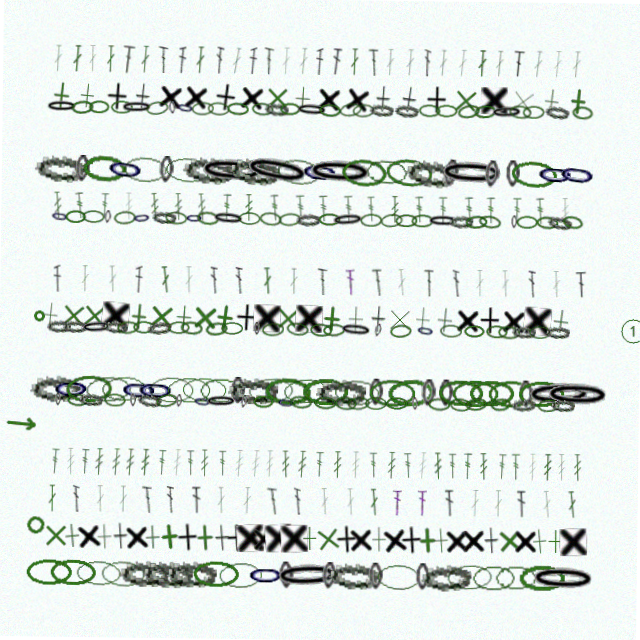chain: (240, 153, 310, 190), (196, 157, 264, 187), (304, 157, 372, 187), (277, 561, 345, 591), (436, 157, 504, 186), (526, 377, 594, 406), (545, 378, 612, 406), (533, 562, 600, 590), (403, 156, 455, 188), (273, 156, 321, 188), (227, 157, 278, 187), (424, 561, 475, 591), (383, 156, 432, 187), (33, 157, 84, 186), (181, 157, 232, 186), (31, 377, 82, 406), (508, 157, 556, 187), (162, 157, 209, 187), (317, 378, 367, 406), (146, 562, 196, 590), (66, 377, 114, 406), (85, 377, 133, 406), (449, 561, 497, 590), (339, 157, 385, 187), (120, 157, 167, 186), (101, 377, 148, 406), (248, 377, 295, 406), (265, 377, 312, 406), (283, 377, 330, 406), (388, 377, 435, 406), (229, 378, 279, 405), (123, 562, 173, 589), (170, 562, 220, 589), (332, 562, 382, 589), (78, 562, 126, 590), (80, 157, 126, 186), (362, 157, 408, 186), (334, 378, 381, 406), (103, 562, 150, 590), (370, 378, 416, 406), (103, 156, 144, 187), (555, 156, 596, 187), (182, 378, 229, 405), (453, 378, 500, 405), (519, 378, 566, 405), (29, 562, 76, 589), (53, 562, 100, 589), (196, 562, 243, 589), (221, 562, 266, 590), (379, 562, 424, 590), (149, 378, 195, 405), (303, 378, 349, 405), (439, 378, 485, 405), (470, 378, 516, 405), (489, 378, 535, 405), (522, 562, 568, 589), (167, 378, 212, 405), (199, 378, 244, 405), (474, 562, 519, 589), (497, 562, 542, 589), (298, 157, 338, 187), (534, 157, 573, 186), (137, 378, 176, 406), (121, 378, 159, 406), (53, 378, 91, 405), (250, 562, 288, 589), (440, 157, 458, 186), (330, 212, 363, 227), (211, 212, 243, 227), (340, 322, 372, 337), (293, 103, 325, 117), (488, 103, 520, 117), (482, 158, 498, 186), (81, 323, 113, 337), (43, 103, 75, 116), (118, 103, 150, 116), (426, 213, 458, 226), (206, 396, 238, 409), (336, 101, 360, 118), (454, 101, 478, 118), (156, 394, 180, 411), (73, 158, 88, 185), (157, 158, 172, 185), (422, 378, 437, 405), (282, 562, 297, 589), (325, 562, 340, 589), (546, 212, 571, 228), (147, 322, 172, 338), (560, 211, 583, 228), (504, 158, 518, 185), (232, 378, 246, 405), (370, 378, 384, 405), (440, 378, 454, 405), (520, 378, 534, 405), (372, 562, 386, 589), (419, 562, 433, 589), (542, 102, 567, 117), (138, 395, 163, 410), (512, 395, 537, 410), (143, 102, 166, 118), (477, 212, 500, 228), (205, 322, 228, 338), (471, 102, 494, 117), (506, 102, 529, 117), (195, 212, 218, 227), (258, 212, 281, 227), (379, 212, 402, 227), (180, 322, 203, 337), (286, 322, 309, 337), (290, 395, 313, 410), (466, 395, 489, 410), (538, 395, 561, 410), (262, 103, 286, 117), (392, 103, 416, 117), (295, 213, 319, 227), (448, 213, 472, 227), (569, 102, 591, 117), (491, 395, 513, 410), (68, 103, 91, 117), (112, 213, 135, 227), (277, 213, 300, 227), (348, 396, 371, 410), (450, 396, 473, 410), (367, 103, 391, 116), (151, 213, 175, 226), (47, 323, 71, 336), (63, 323, 87, 336), (104, 323, 128, 336), (512, 323, 536, 336), (546, 323, 570, 336), (80, 396, 104, 409), (552, 396, 576, 409), (189, 103, 211, 117), (205, 103, 227, 117), (224, 103, 246, 117), (249, 103, 271, 117), (316, 103, 338, 117), (350, 103, 372, 117), (164, 213, 186, 227), (464, 213, 486, 227), (535, 213, 557, 227), (117, 323, 139, 337), (262, 323, 284, 337), (310, 323, 332, 337), (323, 323, 345, 337), (390, 323, 412, 337), (498, 323, 520, 337), (68, 396, 90, 410), (315, 396, 337, 410), (336, 396, 358, 410), (429, 396, 451, 410), (108, 103, 130, 116), (416, 103, 438, 116), (433, 103, 455, 116), (520, 103, 542, 116), (81, 213, 103, 226), (237, 213, 259, 226), (317, 213, 339, 226), (359, 213, 381, 226), (394, 213, 416, 226), (410, 213, 432, 226), (515, 213, 537, 226), (133, 323, 155, 336), (168, 323, 190, 336), (221, 323, 243, 336), (440, 323, 462, 336), (486, 323, 508, 336), (529, 323, 551, 336), (105, 396, 127, 409), (366, 396, 388, 409), (387, 396, 409, 409), (173, 102, 192, 117), (49, 212, 68, 227), (416, 322, 435, 337), (86, 103, 107, 116), (277, 103, 298, 116), (64, 213, 85, 226), (464, 323, 485, 336), (254, 396, 275, 409), (131, 213, 150, 227), (194, 396, 213, 410), (278, 396, 296, 410), (184, 213, 202, 226), (374, 323, 382, 336), (241, 396, 249, 409), (166, 103, 173, 116), (103, 213, 110, 226), (510, 213, 516, 226), (254, 323, 260, 336), (56, 396, 62, 409), (131, 396, 137, 409), (177, 396, 183, 409), (413, 396, 419, 409)
double: (118, 48, 132, 76), (227, 48, 240, 76), (509, 48, 522, 75), (269, 488, 282, 515), (529, 48, 541, 75), (159, 268, 171, 295), (371, 268, 383, 295), (575, 268, 587, 295), (144, 488, 156, 515), (260, 48, 271, 75), (295, 48, 306, 75), (328, 48, 339, 75), (454, 48, 465, 75), (491, 48, 502, 75), (549, 48, 560, 75), (568, 48, 579, 75), (396, 268, 407, 295), (371, 488, 382, 515), (544, 488, 555, 515), (569, 488, 580, 515), (50, 48, 60, 75), (69, 48, 79, 75), (137, 48, 147, 75), (155, 48, 165, 75), (192, 48, 202, 75), (211, 48, 221, 75), (278, 48, 288, 75), (365, 48, 375, 75), (382, 48, 392, 75), (402, 48, 412, 75), (435, 48, 445, 75), (474, 48, 484, 75), (107, 268, 117, 295), (262, 268, 272, 295), (317, 268, 327, 295), (345, 268, 355, 295), (423, 268, 433, 295), (500, 268, 510, 295), (551, 268, 561, 295), (194, 488, 204, 515), (322, 488, 332, 515), (348, 488, 358, 515), (447, 488, 457, 515), (519, 488, 529, 515), (85, 48, 94, 75), (103, 48, 112, 75), (347, 48, 356, 75), (80, 268, 89, 295), (184, 268, 193, 295), (289, 268, 298, 295), (475, 268, 484, 295), (50, 488, 59, 515), (98, 488, 107, 515), (121, 488, 130, 515), (219, 488, 228, 515), (245, 488, 254, 515), (395, 488, 404, 515), (420, 488, 429, 515), (473, 488, 482, 515), (496, 488, 505, 515), (175, 48, 183, 75), (246, 48, 254, 75), (420, 48, 428, 75), (53, 268, 61, 295), (452, 268, 460, 295), (296, 488, 304, 515), (313, 48, 320, 75), (135, 268, 142, 295), (210, 268, 217, 295), (235, 268, 242, 295), (528, 268, 535, 295), (75, 488, 82, 515), (169, 488, 176, 515)
noise: (619, 313, 640, 341), (26, 516, 50, 540), (7, 420, 39, 434), (32, 312, 46, 326)
single: (505, 84, 535, 114), (210, 304, 240, 334), (316, 524, 346, 554), (44, 84, 73, 113), (70, 84, 99, 113), (534, 84, 563, 113), (561, 84, 590, 113), (36, 304, 65, 333), (59, 304, 88, 333), (80, 304, 109, 333), (101, 304, 130, 333), (147, 304, 176, 333), (408, 304, 437, 333), (430, 304, 459, 333), (523, 304, 552, 333), (546, 304, 575, 333), (60, 524, 89, 553), (158, 524, 187, 553), (267, 524, 296, 553), (498, 524, 527, 553), (528, 524, 557, 553), (341, 84, 369, 114), (384, 524, 412, 554), (154, 84, 182, 113), (78, 524, 106, 553), (286, 85, 314, 113), (449, 85, 477, 113), (125, 305, 153, 333), (170, 305, 198, 333), (191, 305, 219, 333), (253, 305, 281, 333), (274, 305, 302, 333), (295, 305, 323, 333), (318, 305, 346, 333), (93, 525, 121, 553), (141, 525, 169, 553), (194, 525, 222, 553), (239, 525, 267, 553), (283, 525, 311, 553), (416, 525, 444, 553), (430, 525, 458, 553), (562, 525, 590, 553), (180, 84, 207, 113), (236, 84, 263, 113), (313, 85, 340, 113), (261, 85, 288, 112), (478, 85, 505, 112), (342, 305, 369, 332), (386, 305, 413, 332), (45, 525, 72, 552), (299, 525, 326, 552), (368, 525, 395, 552), (545, 525, 572, 552), (501, 305, 527, 333), (127, 525, 153, 553), (254, 525, 280, 553), (351, 525, 377, 553), (447, 525, 473, 553), (455, 305, 481, 332), (464, 525, 489, 552), (516, 525, 541, 552), (211, 84, 234, 113), (103, 85, 125, 113), (179, 525, 201, 553), (228, 525, 250, 553), (338, 525, 360, 553), (403, 525, 425, 553), (235, 305, 257, 332), (423, 85, 444, 112), (479, 305, 500, 332), (398, 85, 415, 113), (132, 85, 148, 113), (217, 525, 233, 553), (373, 85, 388, 112), (371, 305, 386, 332), (116, 525, 131, 552), (487, 525, 502, 552)
treble: (51, 195, 62, 222), (73, 195, 84, 222), (148, 195, 159, 222), (195, 195, 206, 222), (268, 195, 279, 222), (294, 195, 305, 222), (317, 195, 328, 222), (342, 195, 353, 222), (252, 451, 263, 478), (419, 451, 430, 478), (172, 195, 182, 222), (365, 195, 375, 222), (413, 195, 423, 222), (437, 195, 447, 222), (463, 195, 473, 222), (511, 195, 521, 222), (534, 195, 544, 222), (559, 195, 569, 222), (52, 451, 62, 478), (82, 451, 92, 478), (96, 451, 106, 478), (113, 451, 123, 478), (127, 451, 137, 478), (142, 451, 152, 478), (159, 451, 169, 478), (174, 451, 184, 478), (236, 451, 246, 478), (299, 451, 309, 478), (405, 451, 415, 478), (435, 451, 445, 478), (499, 451, 509, 478), (513, 451, 523, 478), (99, 195, 108, 222), (123, 195, 132, 222), (221, 195, 230, 222), (243, 195, 252, 222), (389, 195, 398, 222), (485, 195, 494, 222), (68, 451, 77, 478), (188, 451, 197, 478), (202, 451, 211, 478), (220, 451, 229, 478), (267, 451, 276, 478), (283, 451, 292, 478), (317, 451, 326, 478), (335, 451, 344, 478), (353, 451, 362, 478), (371, 451, 380, 478), (389, 451, 398, 478), (450, 451, 459, 478), (465, 451, 474, 478), (481, 451, 490, 478), (530, 451, 539, 478), (545, 451, 554, 478), (559, 451, 568, 478), (575, 451, 584, 478)
